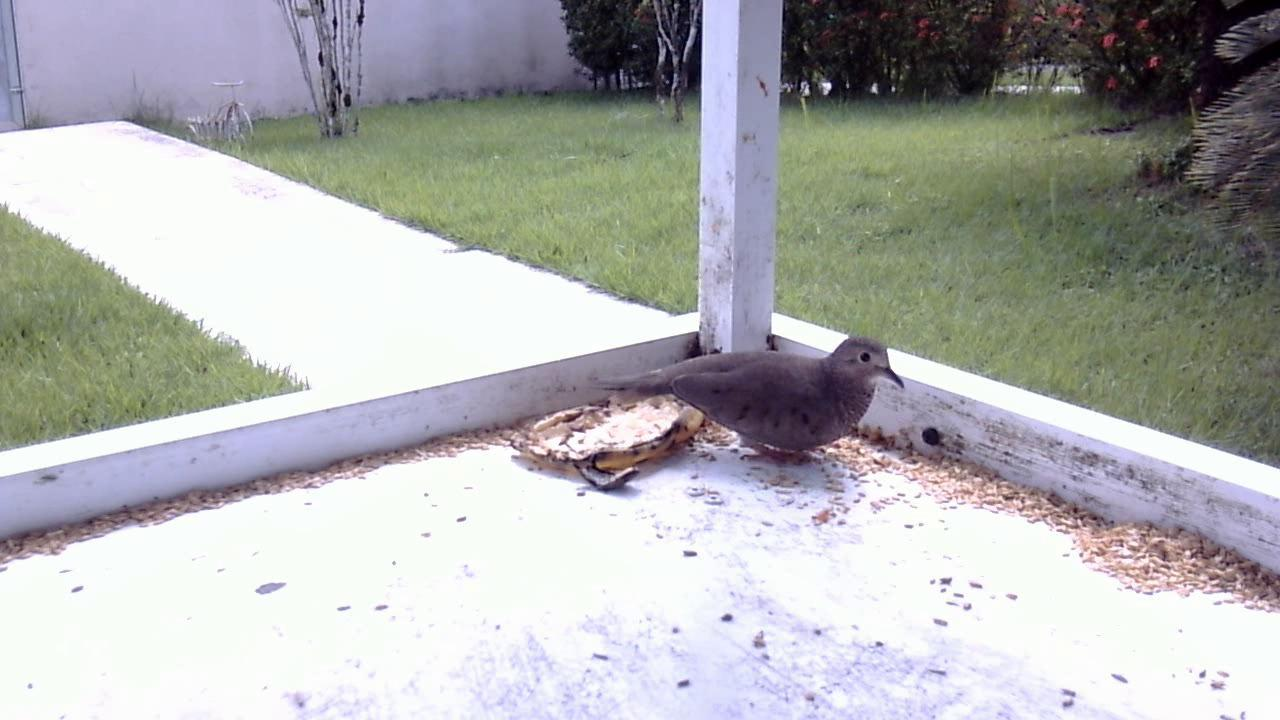rolinha: (584, 326, 907, 489)
